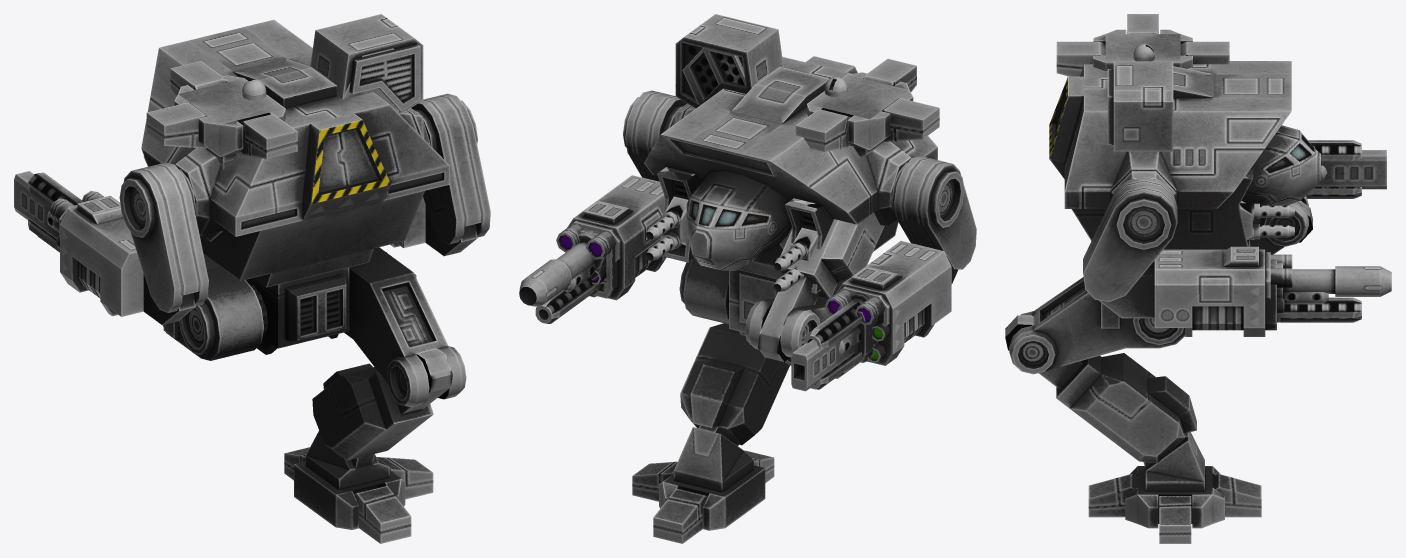
Rendered from Dire Wolf.FBX.
3 renders of one model, left to right at view 1: azimuth 30°, elevation 25°; view 2: azimuth 150°, elevation 25°; view 3: azimuth 270°, elevation 25°, orthographic. The views are drawn at different scales.
Visible parts, largest first — view 1: torso, rupperleg, lupperarm, rlowerleg, lrm_pod_prime, rupperarm, lupperleg, pelvis, rfoot, left pod C, lfoot, llowerarm (+9 smaller); view 2: torso, rlowerleg, lupperarm, rfoot, llowerleg, right pod A, lrm_pod_prime, left pod C, lfoot, rupperarm, left pod B, left pod A (+15 smaller); view 3: torso, rlowerleg, rupperleg, rupperarm, right pod C, lrm_pod_prime, rfoot, rlowerarm, right pod A, barrel_2 B, lfoot, barrel_1 a (+11 smaller).
Boxes of the visible parts, <box> form: torso: <box>141,19,449,287</box>; rupperleg: <box>344,247,466,407</box>; lupperarm: <box>119,162,208,312</box>; rlowerleg: <box>312,349,452,460</box>; lrm_pod_prime: <box>310,14,423,114</box>; rupperarm: <box>411,93,490,244</box>; lupperleg: <box>162,255,267,360</box>; pelvis: <box>246,267,349,354</box>; rfoot: <box>294,430,405,529</box>; left pod C: <box>28,204,143,316</box>; lfoot: <box>174,75,285,169</box>; llowerarm: <box>49,191,195,324</box>; torso: <box>644,56,937,293</box>; rlowerleg: <box>680,323,789,445</box>; lupperarm: <box>891,156,976,269</box>; rfoot: <box>659,425,765,530</box>; llowerleg: <box>758,212,884,361</box>; right pod A: <box>567,175,666,300</box>; lrm_pod_prime: <box>675,14,783,108</box>; left pod C: <box>811,251,951,388</box>; lfoot: <box>807,72,913,157</box>; rupperarm: <box>623,90,686,181</box>; left pod B: <box>804,260,931,389</box>; left pod A: <box>837,240,943,361</box>; torso: <box>1049,61,1320,249</box>; rlowerleg: <box>1005,315,1196,463</box>; rupperleg: <box>1009,268,1185,374</box>; rupperarm: <box>1083,177,1177,301</box>; right pod C: <box>1154,252,1361,336</box>; lrm_pod_prime: <box>1107,61,1173,151</box>; rfoot: <box>1125,432,1224,528</box>; rlowerarm: <box>1099,254,1292,336</box>; right pod A: <box>1154,246,1284,336</box>; barrel_2 B: <box>1283,266,1391,296</box>; lfoot: <box>1093,29,1192,70</box>; barrel_1 a: <box>1315,150,1386,189</box>.
Size of the model in its own units: 57.99 by 78.21 by 63.03.
Materials: 1 (1 with a texture image).
